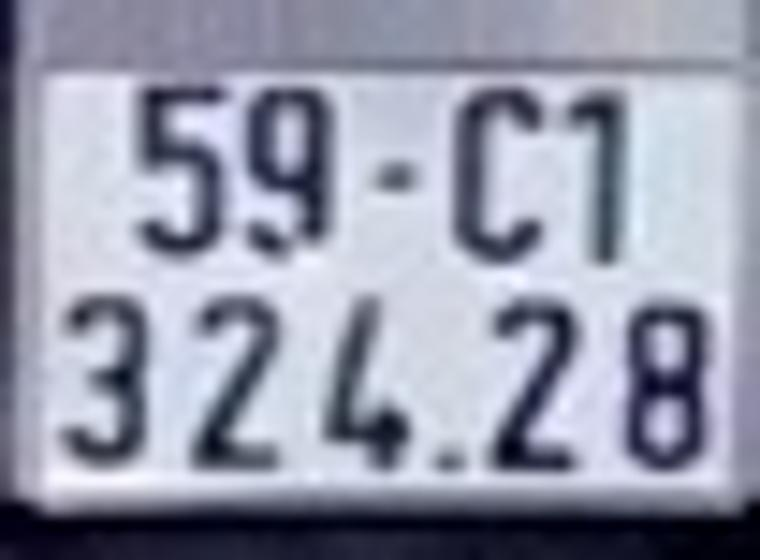-: (369, 158, 430, 194)
.: (437, 442, 469, 481)
1: (568, 81, 637, 263)
2: (187, 299, 291, 474), (492, 292, 574, 478)
3: (58, 291, 154, 470)
4: (314, 298, 413, 477)
5: (141, 82, 234, 258)
8: (620, 301, 716, 475)
9: (240, 87, 340, 265)
D: (449, 80, 556, 268)
